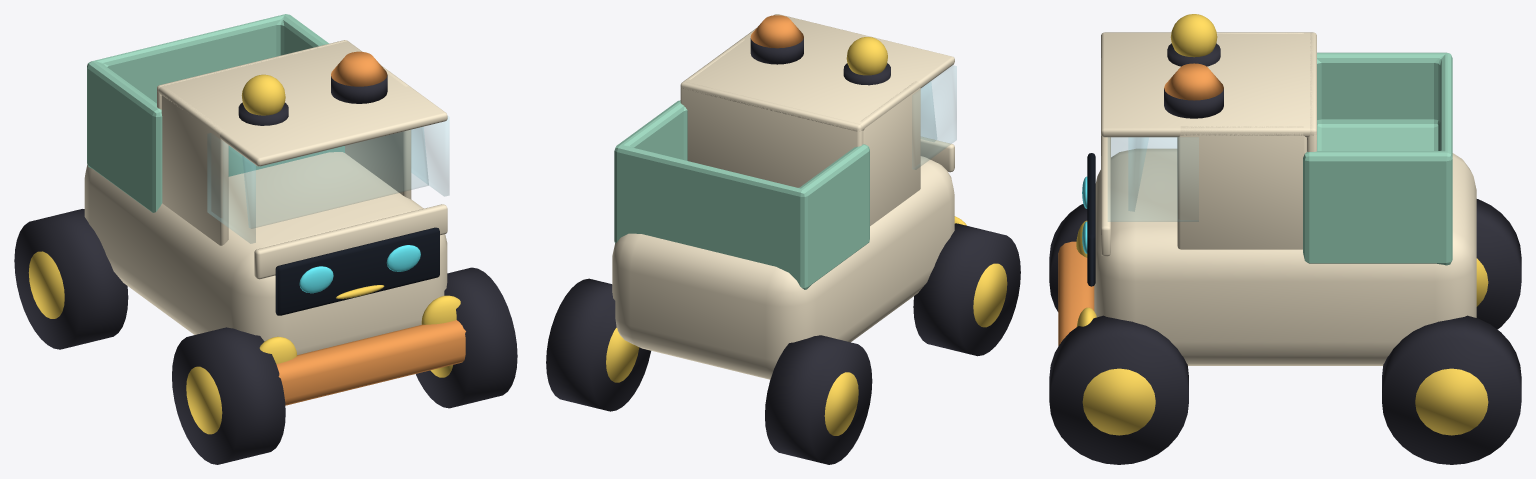
Rendered from truck3D.obj.
3 views of the same model, side by side, from view 1: azimuth 30°, elevation 25°; view 2: azimuth 150°, elevation 25°; view 3: azimuth 270°, elevation 25° (orthographic). The views are drawn at different scales.
Visible parts, largest first — view 1: Body, Cabin, OpenBin, Windshield, Wheel_FL, Wheel_RL, Bumper, Wheel_FR, LCDScreen, Window_L, Window_R, Wheel_RL_Hub (+9 smaller); view 2: Body, Cabin, OpenBin, Wheel_RL, Wheel_FL, Wheel_RR, Window_L, Wheel_FL_Hub, Wheel_RL_Hub, SignalLED, Speaker_Cone, Wheel_RR_Hub (+3 smaller); view 3: Body, Cabin, OpenBin, Wheel_RR, Wheel_FR, Window_R, Wheel_RL, Wheel_FR_Hub, Wheel_RR_Hub, Bumper, Speaker_Cone, SignalLED (+5 smaller).
Part boxes in pixels (left/top/right/bottom): Body: left=84, top=152, right=447, bottom=354; Cabin: left=157, top=40, right=447, bottom=279; OpenBin: left=87, top=14, right=344, bottom=212; Windshield: left=243, top=127, right=428, bottom=228; Wheel_FL: left=172, top=327, right=285, bottom=464; Wheel_RL: left=14, top=209, right=128, bottom=349; Bumper: left=276, top=320, right=465, bottom=405; Wheel_FR: left=416, top=267, right=517, bottom=408; LCDScreen: left=275, top=227, right=439, bottom=315; Window_L: left=207, top=133, right=255, bottom=243; Window_R: left=411, top=116, right=449, bottom=196; Wheel_RL_Hub: left=28, top=251, right=64, bottom=318; Body: left=612, top=156, right=954, bottom=379; Cabin: left=680, top=14, right=954, bottom=225; OpenBin: left=614, top=100, right=869, bottom=289; Wheel_RL: left=765, top=335, right=872, bottom=464; Wheel_FL: left=913, top=223, right=1020, bottom=356; Wheel_RR: left=546, top=278, right=650, bottom=411; Window_L: left=912, top=65, right=956, bottom=169; Wheel_FL_Hub: left=973, top=263, right=1007, bottom=327; Wheel_RL_Hub: left=824, top=372, right=858, bottom=435; SignalLED: left=846, top=37, right=887, bottom=75; Speaker_Cone: left=750, top=15, right=803, bottom=48; Wheel_RR_Hub: left=606, top=327, right=639, bottom=382; Body: left=1094, top=148, right=1476, bottom=365; Cabin: left=1101, top=32, right=1316, bottom=256; OpenBin: left=1303, top=52, right=1452, bottom=265; Wheel_RR: left=1382, top=315, right=1521, bottom=464; Wheel_FR: left=1049, top=315, right=1188, bottom=464; Window_R: left=1108, top=137, right=1198, bottom=221; Wheel_RL: left=1476, top=199, right=1521, bottom=329; Wheel_FR_Hub: left=1082, top=368, right=1155, bottom=435; Wheel_RR_Hub: left=1415, top=368, right=1488, bottom=435; Bumper: left=1058, top=241, right=1094, bottom=345; Speaker_Cone: left=1164, top=63, right=1223, bottom=100; SignalLED: left=1170, top=14, right=1217, bottom=57.
Bounding box in the file's own units: 2.07 × 2.35 × 2.84.
